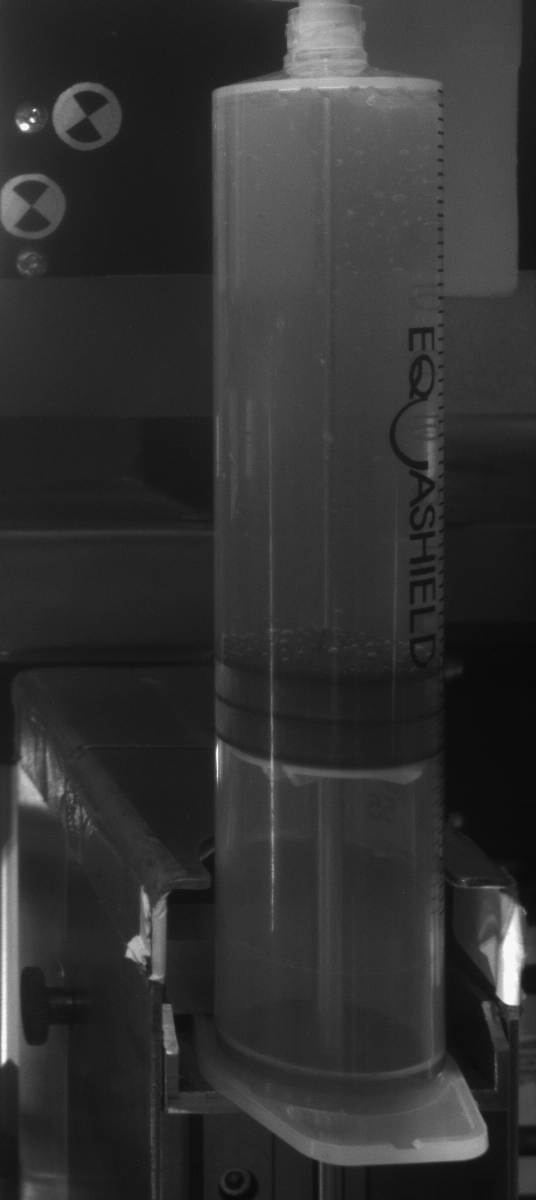piston: (214, 660, 450, 787)
